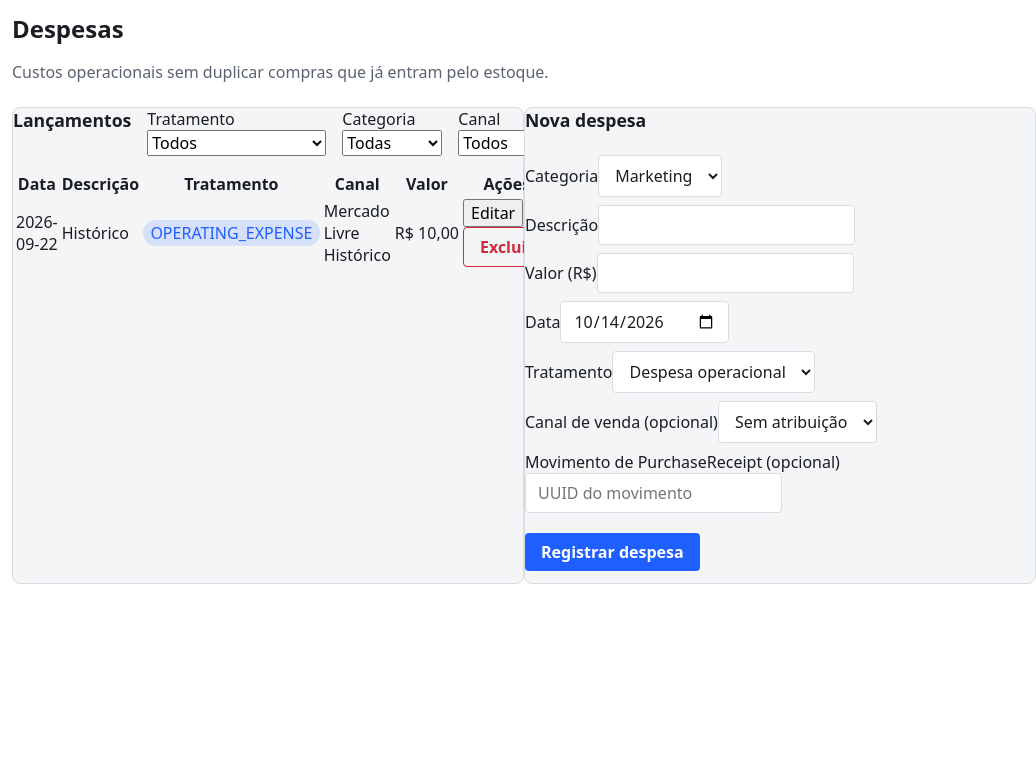
Test: warns before a PurchaseReceipt link can be submitted as an operating expense
The width and height of the screenshot is (1036, 780).
expect the text "Histórico" is shown: met, box [61,198,140,268]
Type "movement-1" into the field with placeholder "UUID do movimento" at (654, 493), box [525,473,782,513]
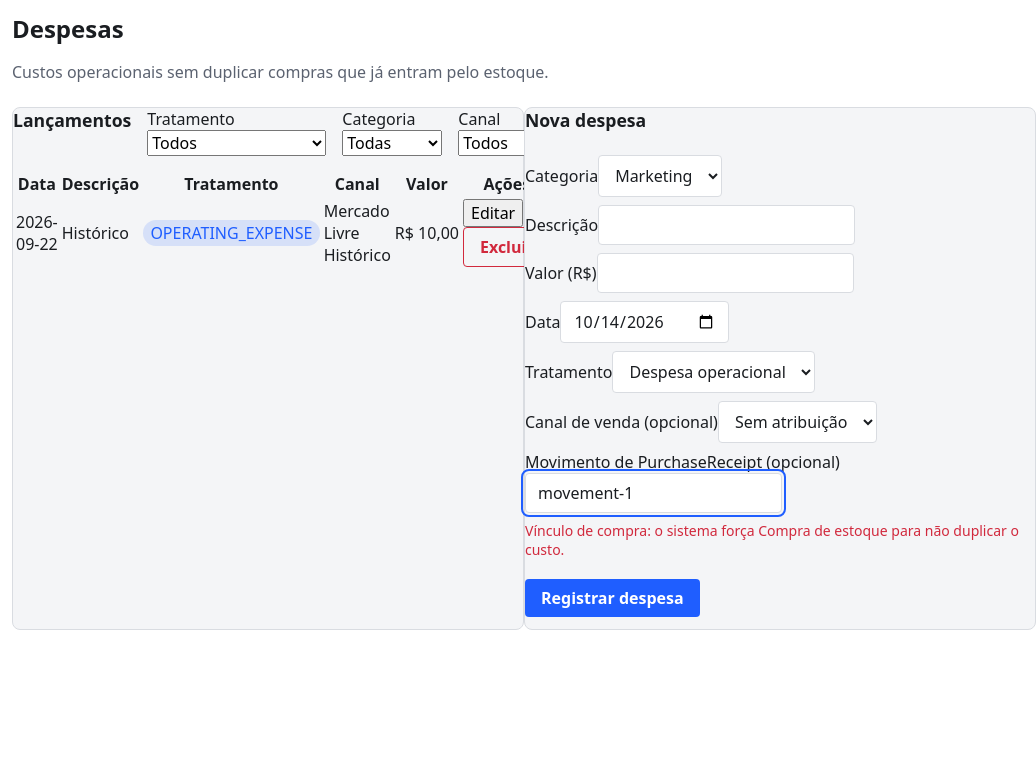
expect the text "o sistema força Compra de estoque" is shown: met, box [525,521,1019,559]
